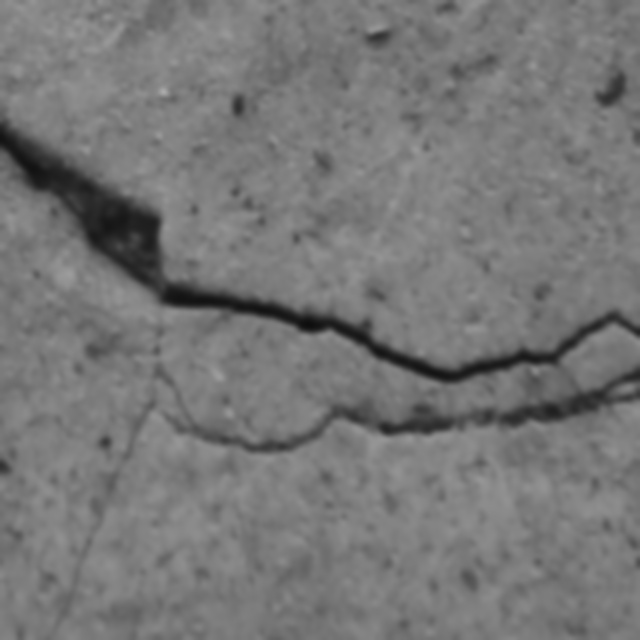SurfaceCrack: (0, 13, 639, 485)
